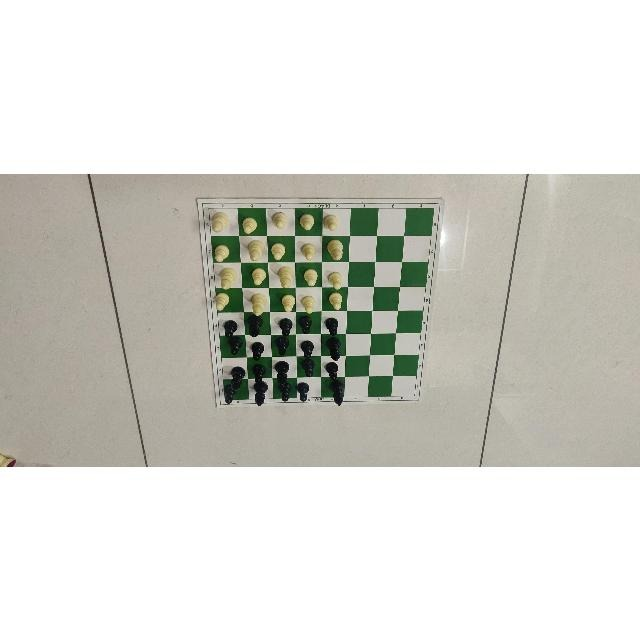black-bishop: (246, 313, 263, 336), (230, 365, 245, 391), (330, 380, 344, 406), (253, 380, 267, 405), (275, 360, 289, 385), (328, 336, 341, 361)
black-pawn: (229, 335, 243, 355), (275, 335, 289, 354), (251, 341, 265, 360), (224, 318, 238, 337), (297, 381, 310, 401), (325, 317, 339, 335), (279, 317, 293, 335), (252, 363, 265, 382), (298, 315, 311, 333), (301, 340, 314, 358), (302, 359, 315, 377), (224, 384, 236, 403), (326, 362, 340, 378), (281, 383, 291, 401)
white-bishop: (211, 211, 231, 233), (219, 267, 237, 290), (247, 239, 265, 261), (327, 239, 344, 261), (278, 266, 294, 288), (251, 292, 266, 315)
white-pawn: (251, 266, 266, 286), (214, 291, 229, 311), (328, 271, 344, 289), (303, 267, 318, 286), (214, 242, 229, 261), (271, 242, 286, 260), (328, 292, 343, 310), (273, 212, 289, 228), (299, 213, 315, 229), (242, 216, 257, 233), (301, 242, 316, 259), (302, 295, 316, 313), (282, 294, 296, 312), (325, 214, 337, 230)
